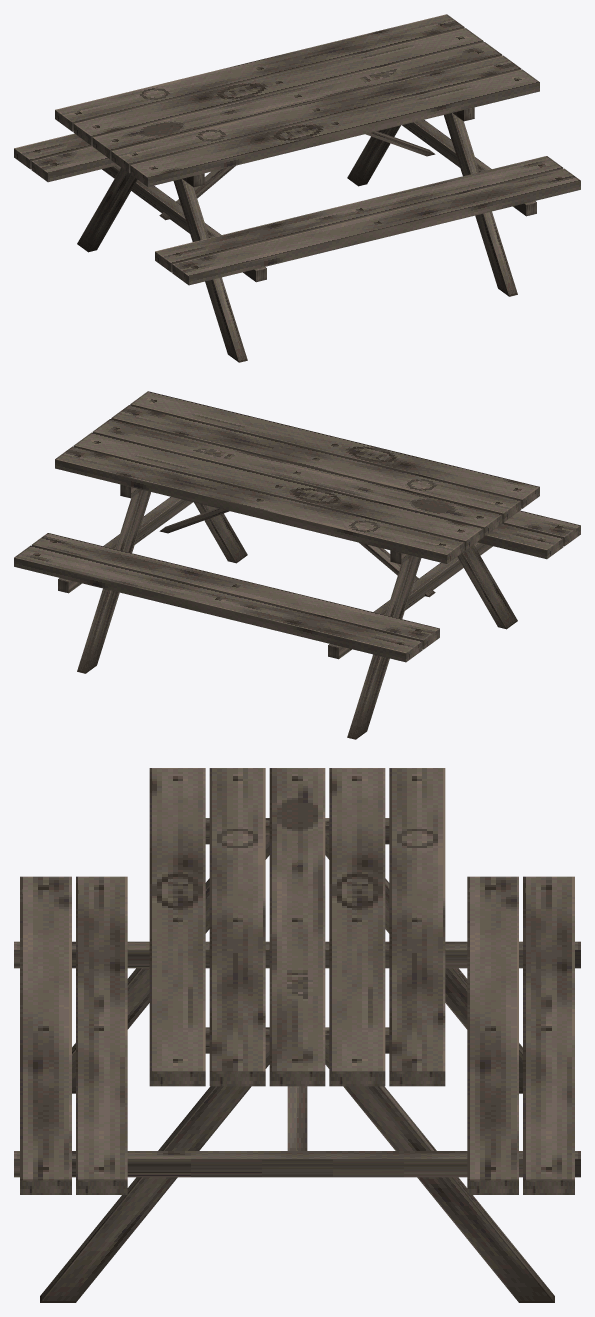
File: picnic_table.glb
3 views of the same model, one above another, from view 1: azimuth 30°, elevation 25°; view 2: azimuth 150°, elevation 25°; view 3: azimuth 270°, elevation 25° (orthographic). The views are drawn at different scales.
Visible parts, largest first — view 1: picnic_table; view 2: picnic_table; view 3: picnic_table.
Part boxes in pixels (x1=…): picnic_table: x1=14, y1=14, x2=580, y2=362; picnic_table: x1=14, y1=391, x2=580, y2=739; picnic_table: x1=14, y1=768, x2=580, y2=1302.
Bounding box in the file's own units: 1.8 × 0.76 × 1.42.
1 material, 1 textured.
